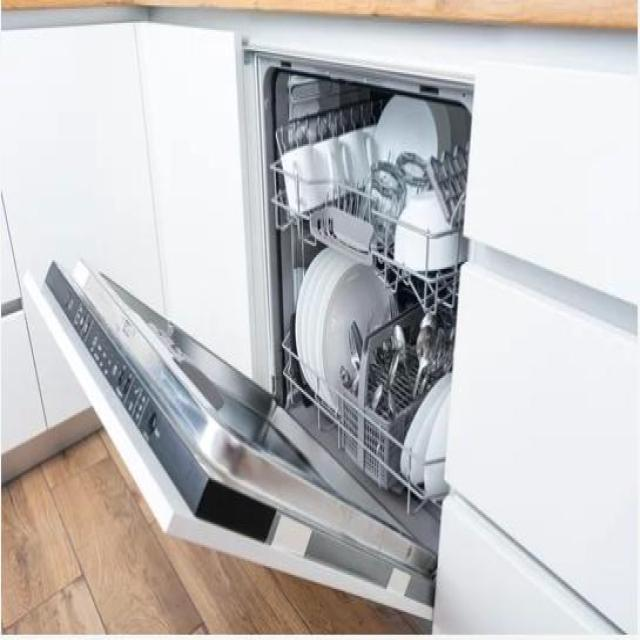dishwasher: (18, 44, 468, 608)
